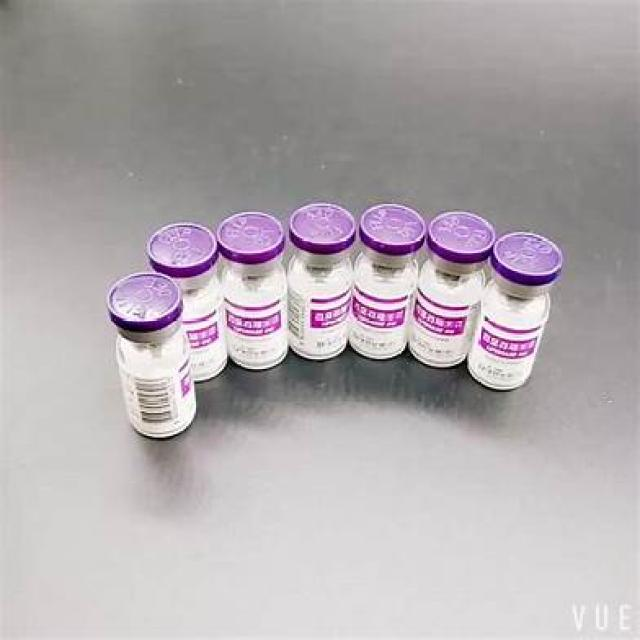vial: (105, 277, 200, 331), (425, 208, 502, 258), (292, 200, 364, 248), (139, 218, 219, 260), (493, 235, 562, 283), (364, 203, 426, 243), (214, 218, 276, 251)
